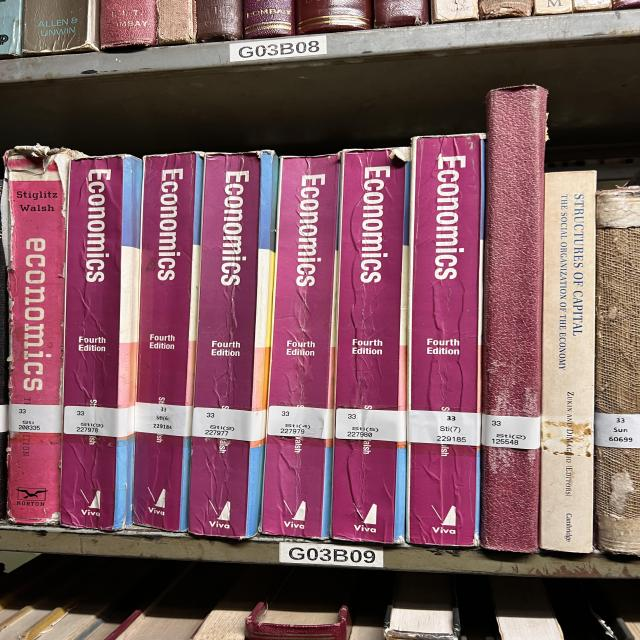Book: (188, 151, 278, 539), (407, 134, 485, 546), (480, 85, 548, 552), (332, 148, 412, 544), (60, 155, 143, 530), (262, 155, 340, 539), (5, 146, 82, 524), (133, 152, 203, 531), (540, 171, 597, 552), (593, 186, 640, 555)
Label: (408, 410, 482, 446), (542, 418, 601, 462), (192, 408, 265, 441), (335, 409, 407, 442), (63, 406, 135, 438), (267, 405, 333, 439), (482, 414, 540, 449), (135, 402, 193, 436), (595, 412, 640, 449), (8, 404, 62, 434)
